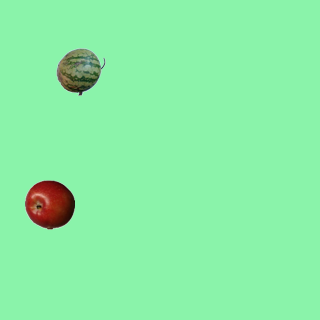Apple Braeburn: (24, 179, 74, 229)
Watermelon: (55, 46, 105, 96)
